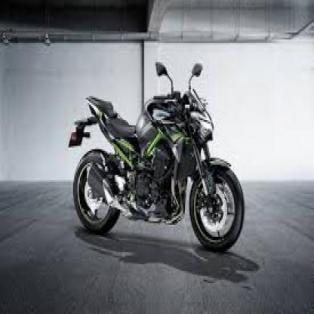Motocicleta: (68, 54, 248, 256)
